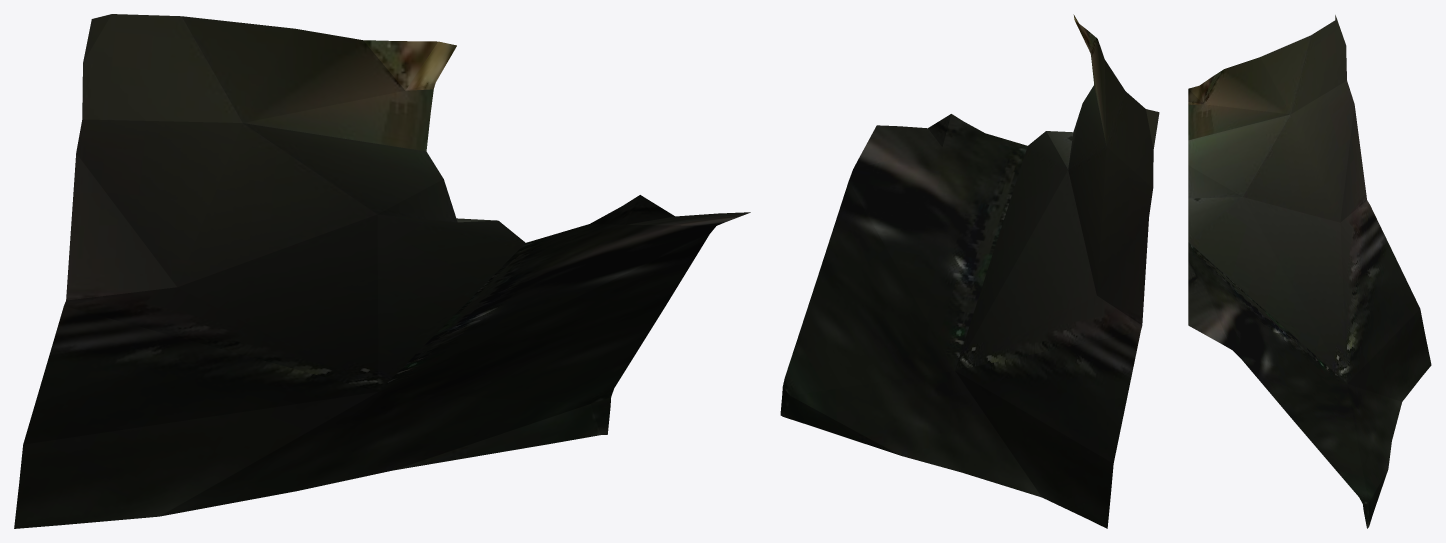
3 views of the same model, side by side, from view 1: azimuth 30°, elevation 25°; view 2: azimuth 150°, elevation 25°; view 3: azimuth 270°, elevation 25° (orthographic). The views are drawn at different scales.
Bounding box in the file's own units: 0.8373 × 0.8374 × 0.5254.
3 materials, 3 textured.
